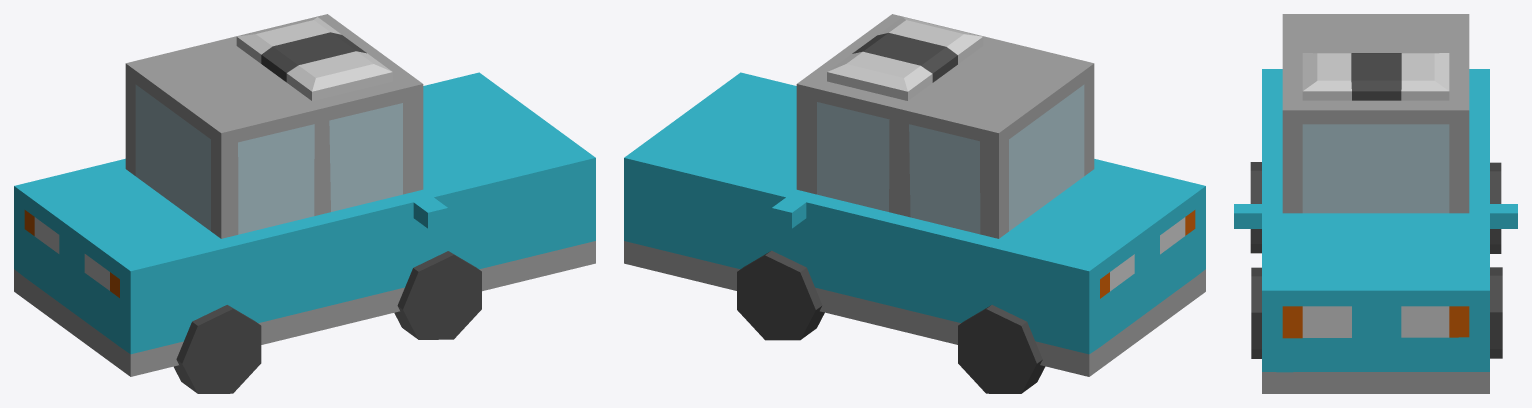
Rendered from block_police.fbx.
3 renders of one model, left to right at view 1: azimuth 30°, elevation 25°; view 2: azimuth 150°, elevation 25°; view 3: azimuth 270°, elevation 25°, orthographic. The views are drawn at different scales.
Parts seen in each view (by area): view 1: car_maincube, rightbacktire, rightfronttire; view 2: car_maincube, leftfronttire, leftbacktire; view 3: car_maincube, leftfronttire, rightfronttire, rightbacktire, leftbacktire.
Boxes of the visible parts, x1,y1,x2,y2 form: car_maincube: (14, 14, 595, 376); rightbacktire: (174, 305, 261, 393); rightfronttire: (394, 251, 481, 339); car_maincube: (624, 14, 1205, 376); leftfronttire: (737, 250, 824, 340); leftbacktire: (958, 305, 1045, 393); car_maincube: (1234, 14, 1517, 393); leftfronttire: (1490, 267, 1502, 358); rightfronttire: (1251, 267, 1261, 358); rightbacktire: (1250, 162, 1261, 253); leftbacktire: (1490, 162, 1501, 253).
Size of the model in its own units: 4.61 by 2.48 by 2.49.
